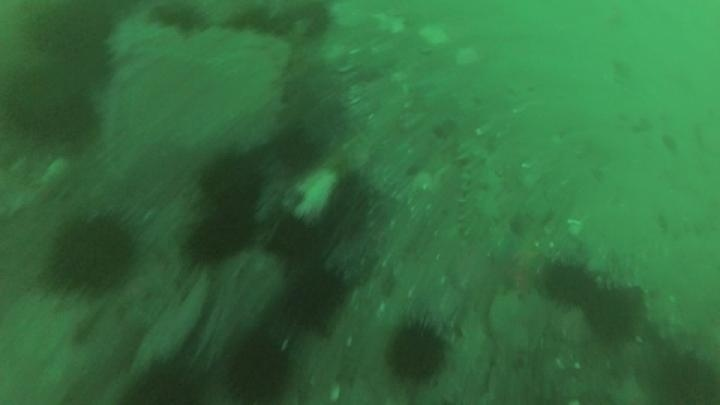echinus: (46, 211, 138, 296), (222, 331, 296, 404), (24, 2, 117, 60), (285, 76, 352, 147), (383, 318, 451, 385), (121, 354, 211, 404), (281, 264, 349, 329), (196, 150, 266, 213), (648, 348, 719, 405), (185, 209, 254, 266), (46, 38, 116, 93), (581, 284, 643, 344), (40, 90, 101, 150), (266, 212, 330, 266), (1, 70, 59, 123), (540, 259, 599, 309), (273, 128, 322, 176), (149, 2, 211, 37)
holothurian: (453, 135, 504, 240)
scallop: (487, 289, 544, 354), (285, 165, 344, 226)
